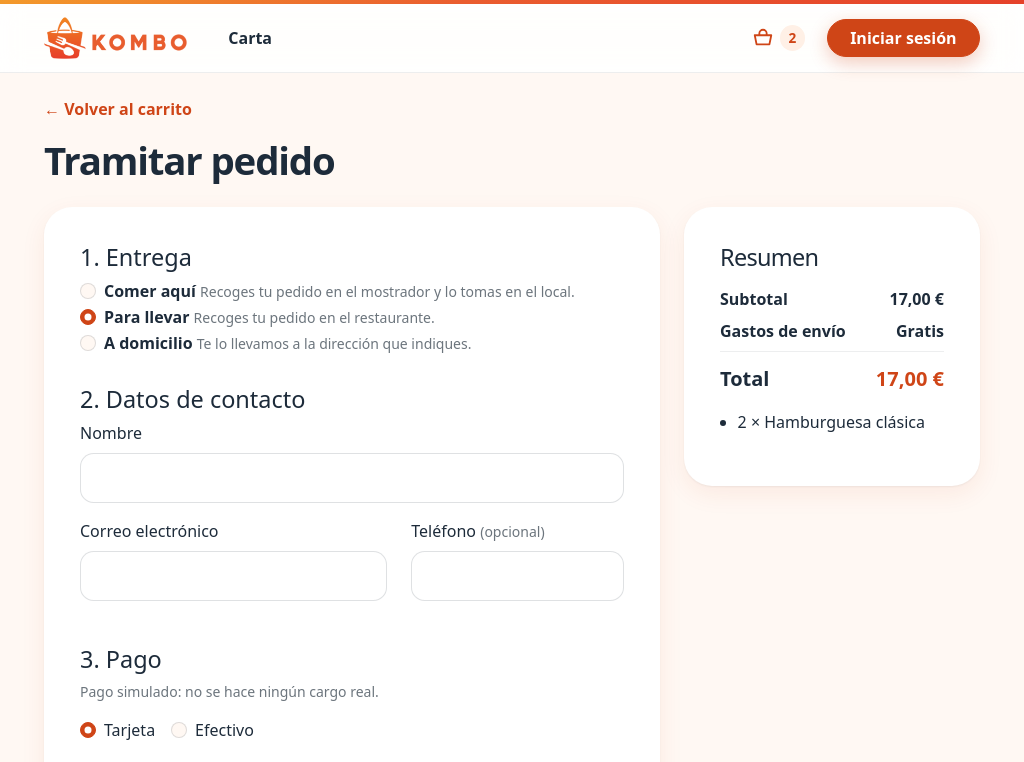
CheckoutPage › shows the wrong fields and does not send the order
Click the radio button labelled "A domicilio Te lo llevamos a la dirección que indiques.". click: [88, 343]
box: left=80, top=335, right=96, bottom=351
(page scrolled)
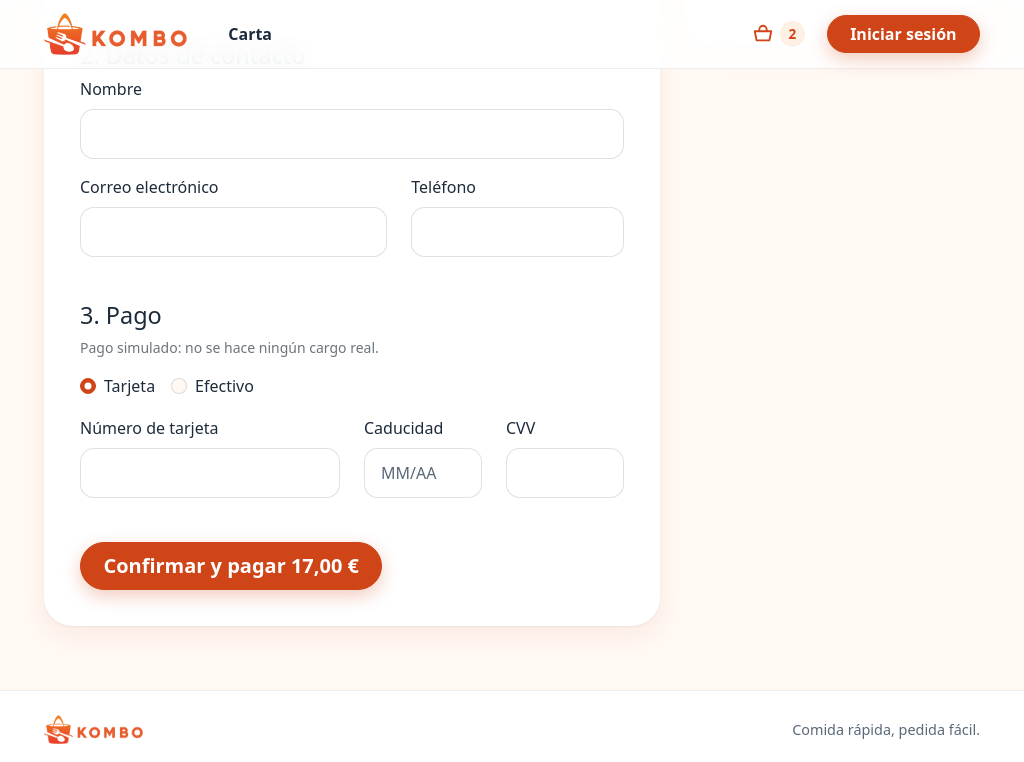
Click the button "Confirmar y pagar 17,00 €". click: [231, 566]
box: left=80, top=542, right=382, bottom=590
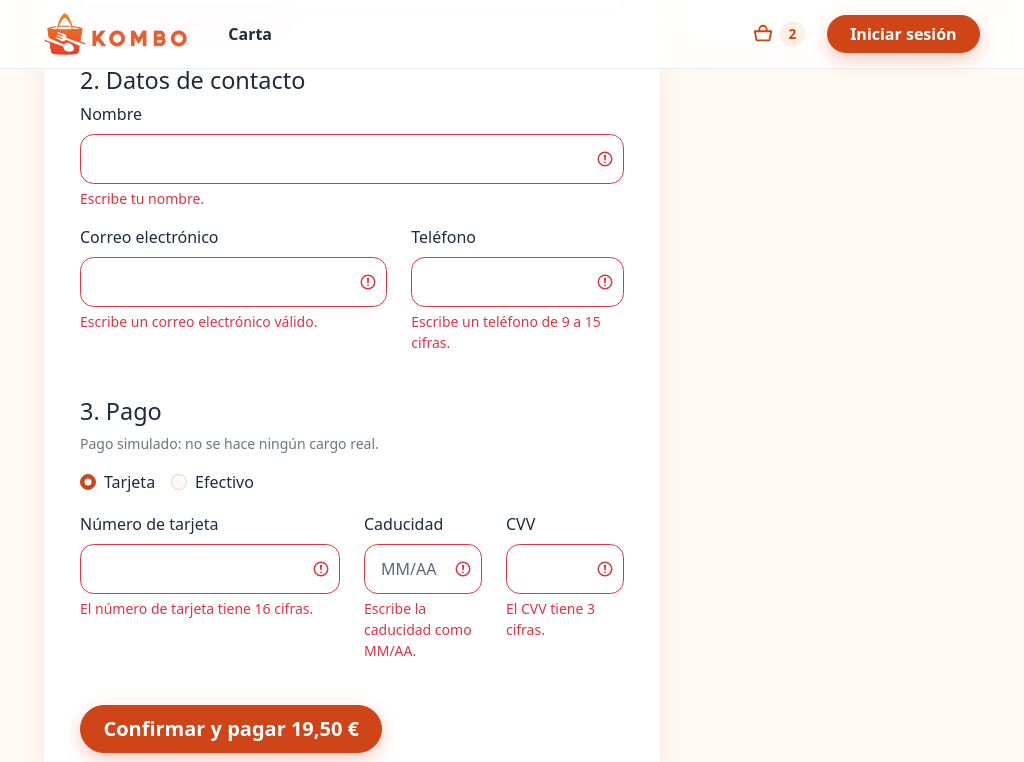
Expected: the text "Escribe tu nombre." is shown, left=80, top=189, right=204, bottom=208
Expected: the text "Escribe un correo electrónico válido." is shown, left=80, top=312, right=318, bottom=331
Expected: the text "El número de tarjeta tiene 16 cifras." is shown, left=80, top=598, right=340, bottom=619
